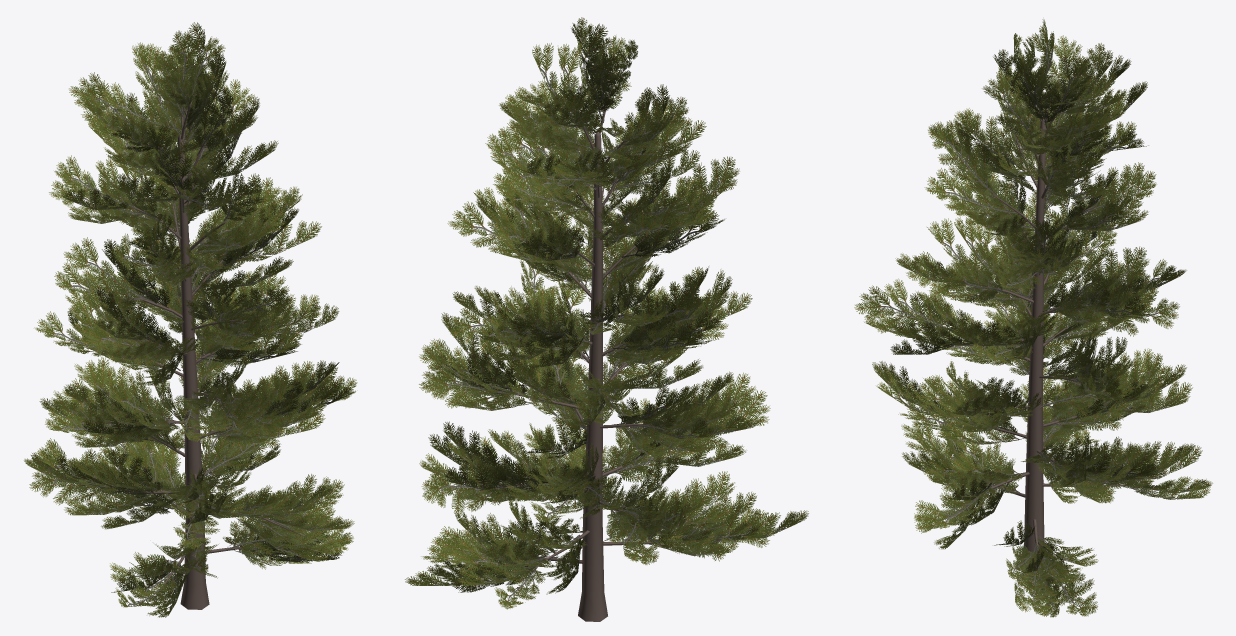
Rendered from NewTreeL1.fbx.
3 views of the same model, side by side, from view 1: azimuth 30°, elevation 25°; view 2: azimuth 150°, elevation 25°; view 3: azimuth 270°, elevation 25° (orthographic). The views are drawn at different scales.
Parts seen in each view (by area): view 1: pine_tree_v2_trunk_LOD_1; view 2: pine_tree_v2_trunk_LOD_1; view 3: pine_tree_v2_trunk_LOD_1.
Part boxes in pixels (x1,y1,x2,y2): pine_tree_v2_trunk_LOD_1: [24, 22, 357, 617]; pine_tree_v2_trunk_LOD_1: [405, 17, 808, 621]; pine_tree_v2_trunk_LOD_1: [854, 19, 1212, 617].
Bounding box in the file's own units: 593 × 1001 × 619.
